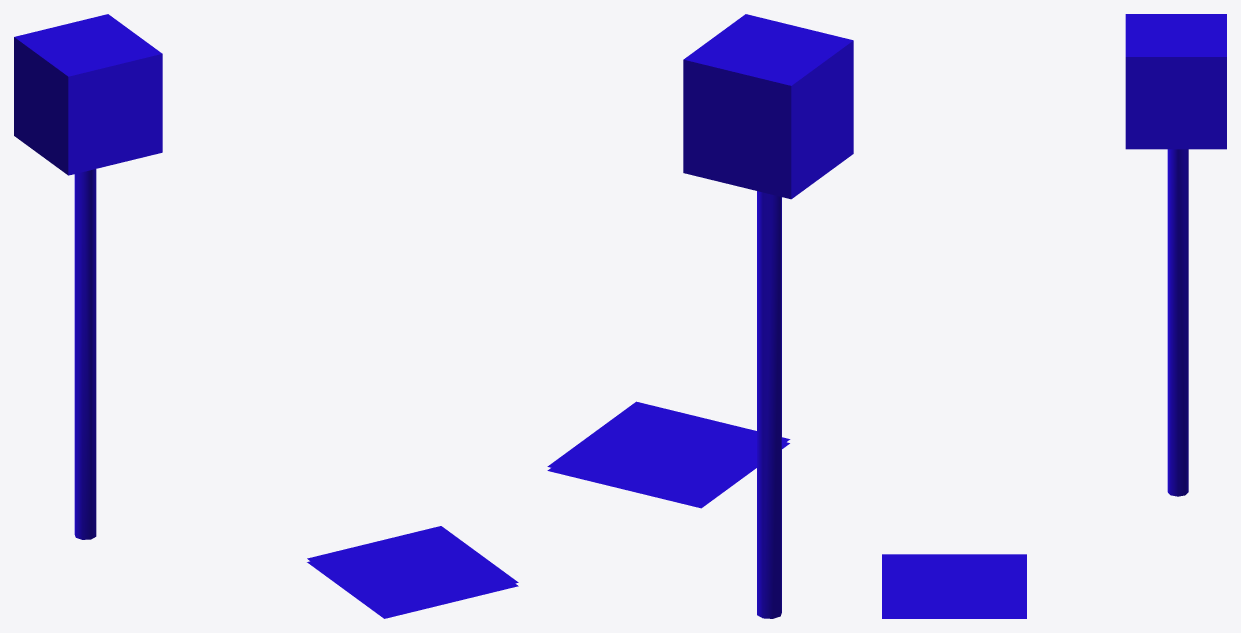
Rendered from ScaleGizmo_v2.fbx.
The picture shows the model from 3 angles, left to right: view 1: azimuth 30°, elevation 25°; view 2: azimuth 150°, elevation 25°; view 3: azimuth 270°, elevation 25°; orthographic projection. The views are drawn at different scales.
Visible parts, largest first — view 1: Ground plane, Axis scale; view 2: Ground plane, Axis scale; view 3: Ground plane, Axis scale.
Part boxes in pixels (left/top/right/bottom): Ground plane: left=14, top=14, right=162, bottom=539; Axis scale: left=307, top=526, right=518, bottom=618; Ground plane: left=683, top=14, right=853, bottom=618; Axis scale: left=547, top=401, right=790, bottom=508; Ground plane: left=1125, top=14, right=1226, bottom=496; Axis scale: left=882, top=554, right=1026, bottom=618.
Size of the model in its own units: 68.44 by 101 by 68.44.
